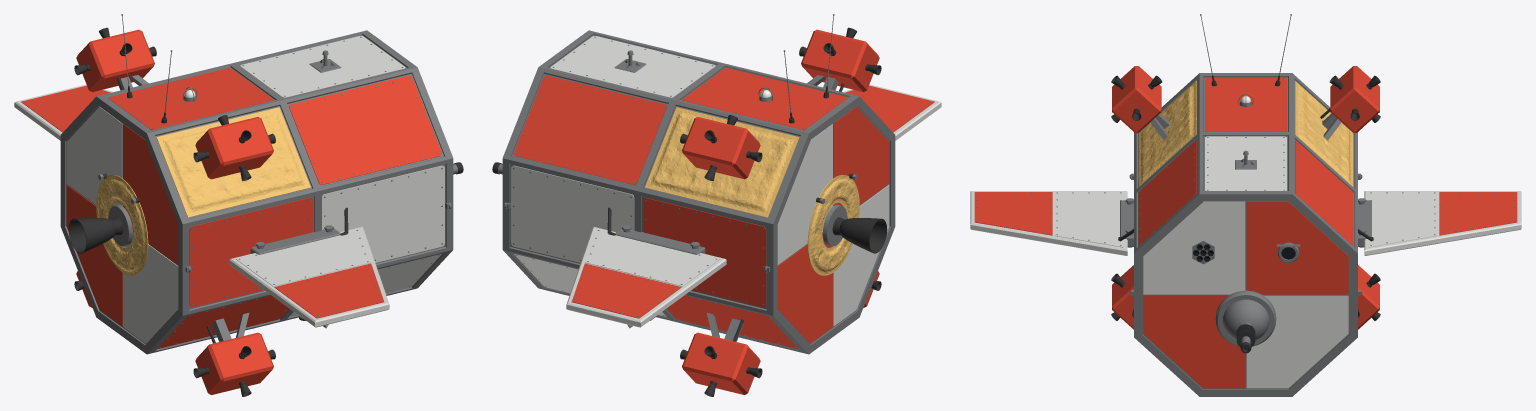
Rendered from drone.fbx.
3 views of the same model, side by side, from view 1: azimuth 30°, elevation 25°; view 2: azimuth 150°, elevation 25°; view 3: azimuth 270°, elevation 25° (orthographic). The views are drawn at different scales.
Parts seen in each view (by area): view 1: Drone_Body; view 2: Drone_Body; view 3: Drone_Body.
Part boxes in pixels (box(x1,y1,x2,y2)): Drone_Body: box(14, 14, 463, 396); Drone_Body: box(492, 14, 941, 396); Drone_Body: box(970, 14, 1521, 396).
Size of the model in its own units: 2.57 by 2.1 by 3.5.
